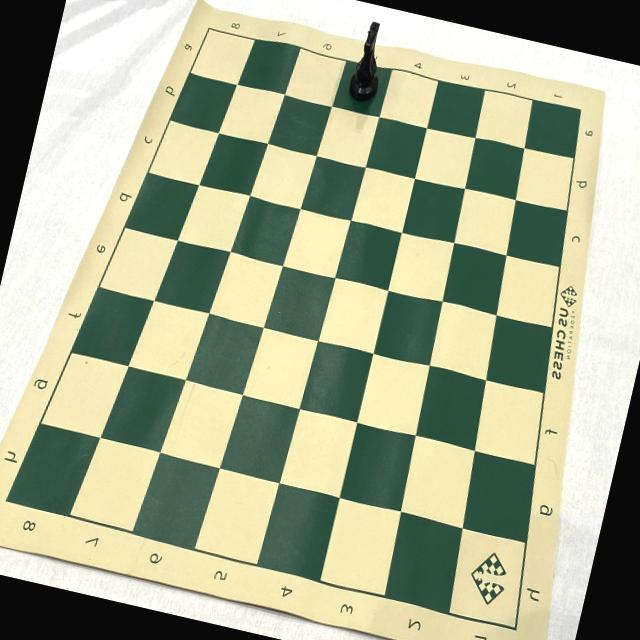black-knight: (346, 20, 392, 106)
